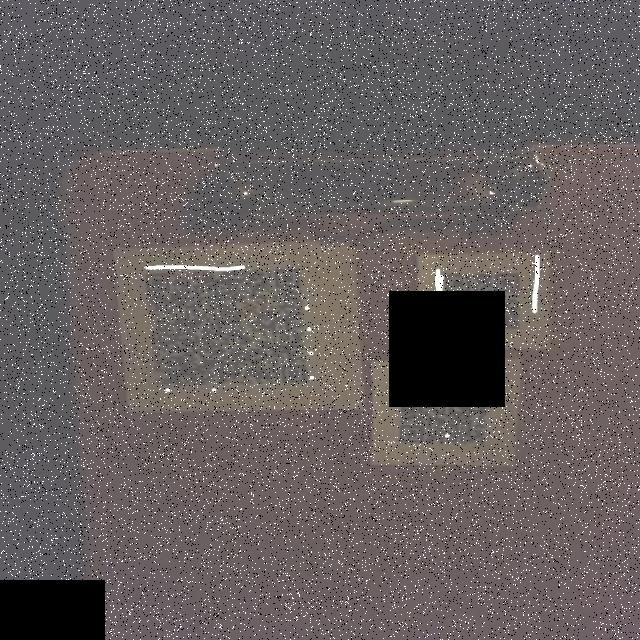QR_CODE: (128, 250, 328, 402), (381, 364, 500, 458), (428, 258, 532, 336)
